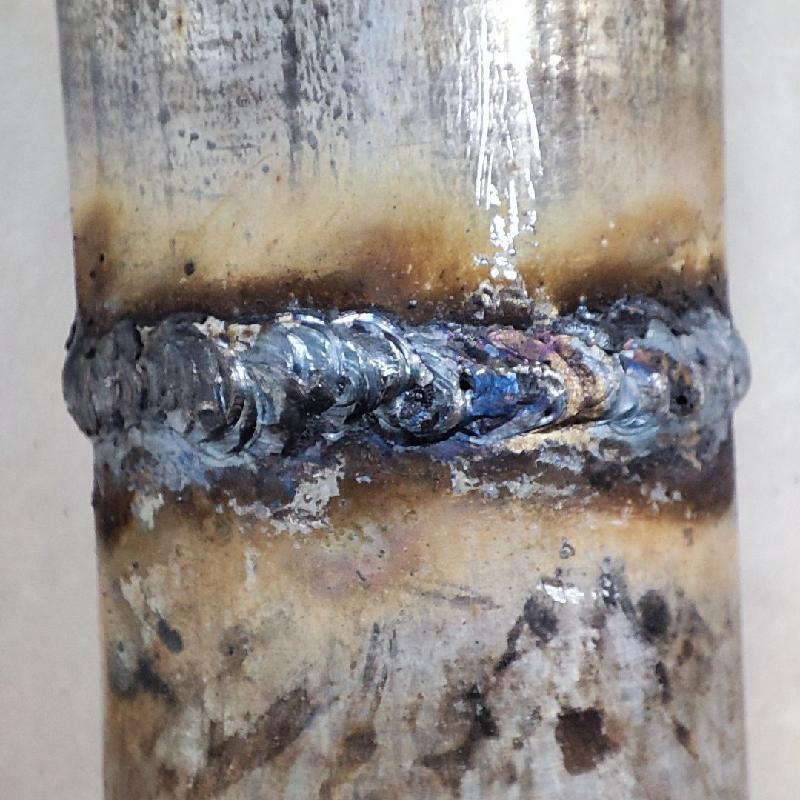Surface_pores: (441, 364, 484, 400), (671, 377, 701, 417)
good: (53, 306, 751, 446)
